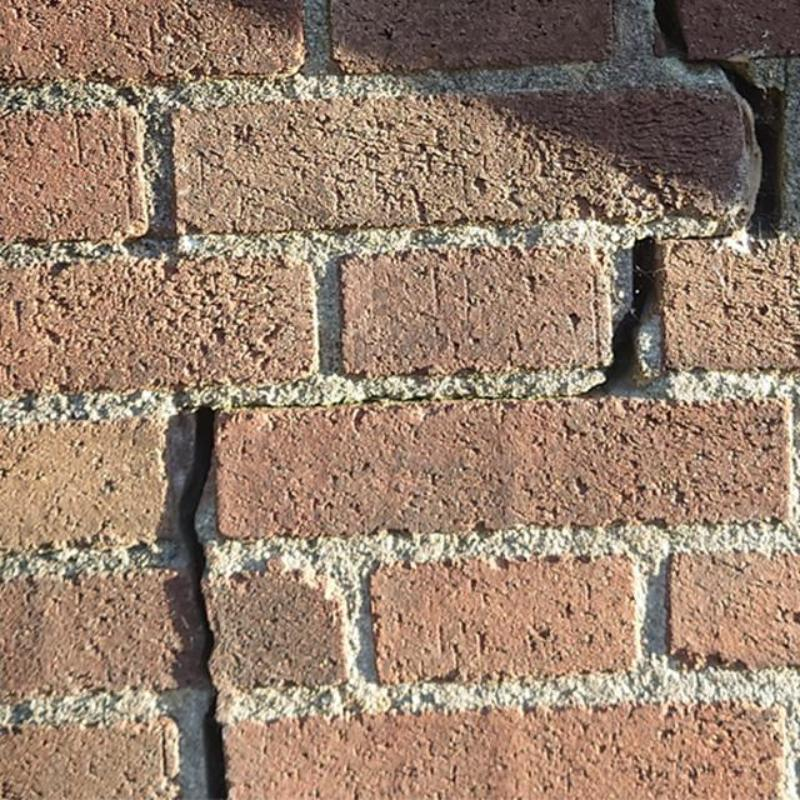pothole: (655, 0, 788, 238), (598, 239, 655, 395), (180, 408, 214, 668), (203, 689, 225, 799), (668, 234, 734, 240)
